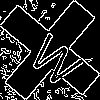W: (25, 25, 91, 90)
